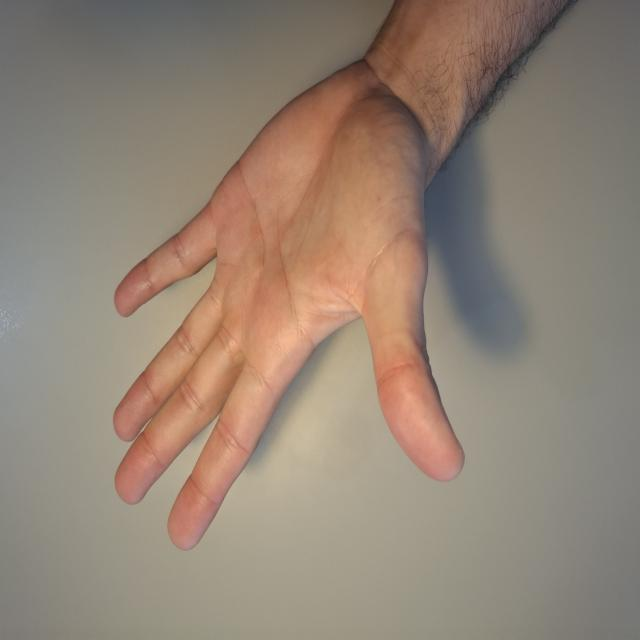glove_off: (111, 27, 468, 553)
